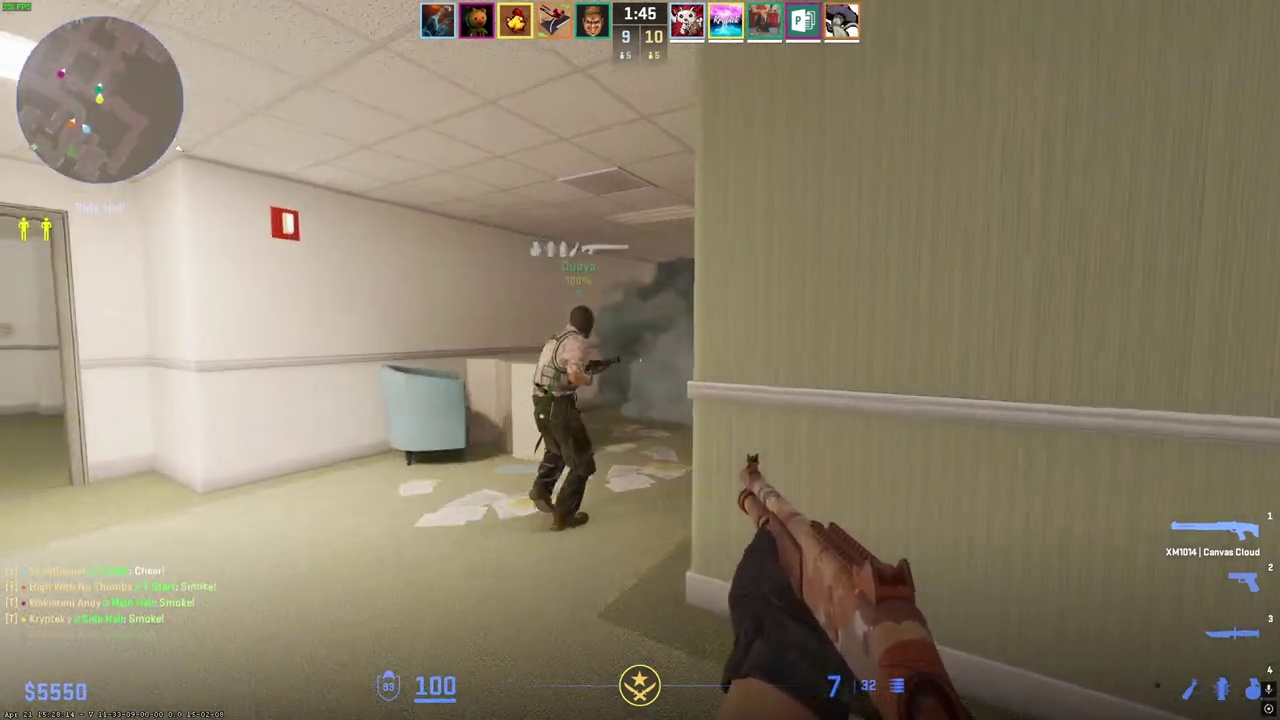Terrorist: (521, 302, 612, 535)
